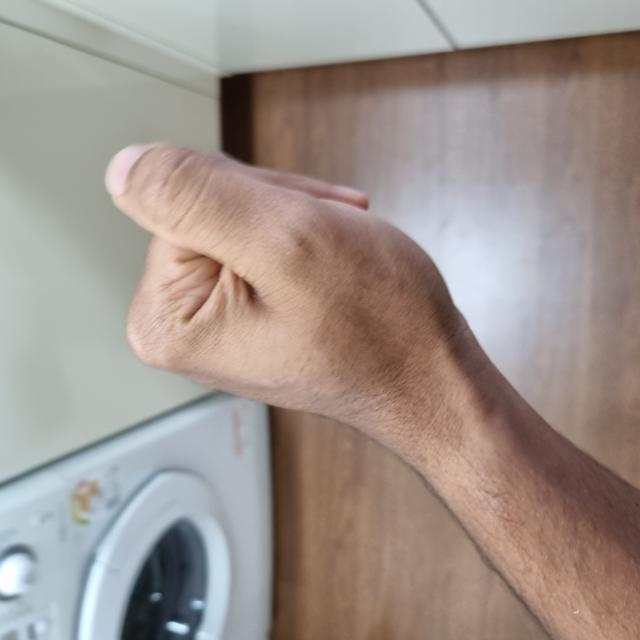Rock: (209, 113, 494, 449)
